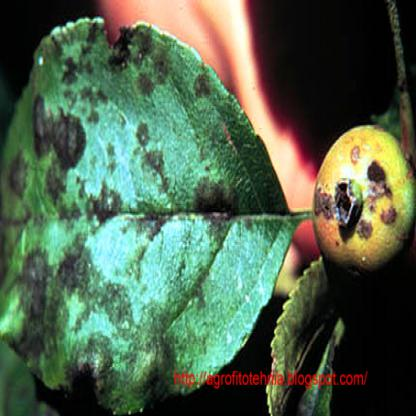apple scab leaf: (1, 16, 296, 415)
